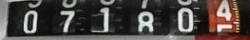digits: (56, 0, 86, 33), (92, 1, 120, 34), (177, 7, 193, 32), (137, 11, 154, 32), (23, 10, 38, 33), (216, 0, 232, 21)
